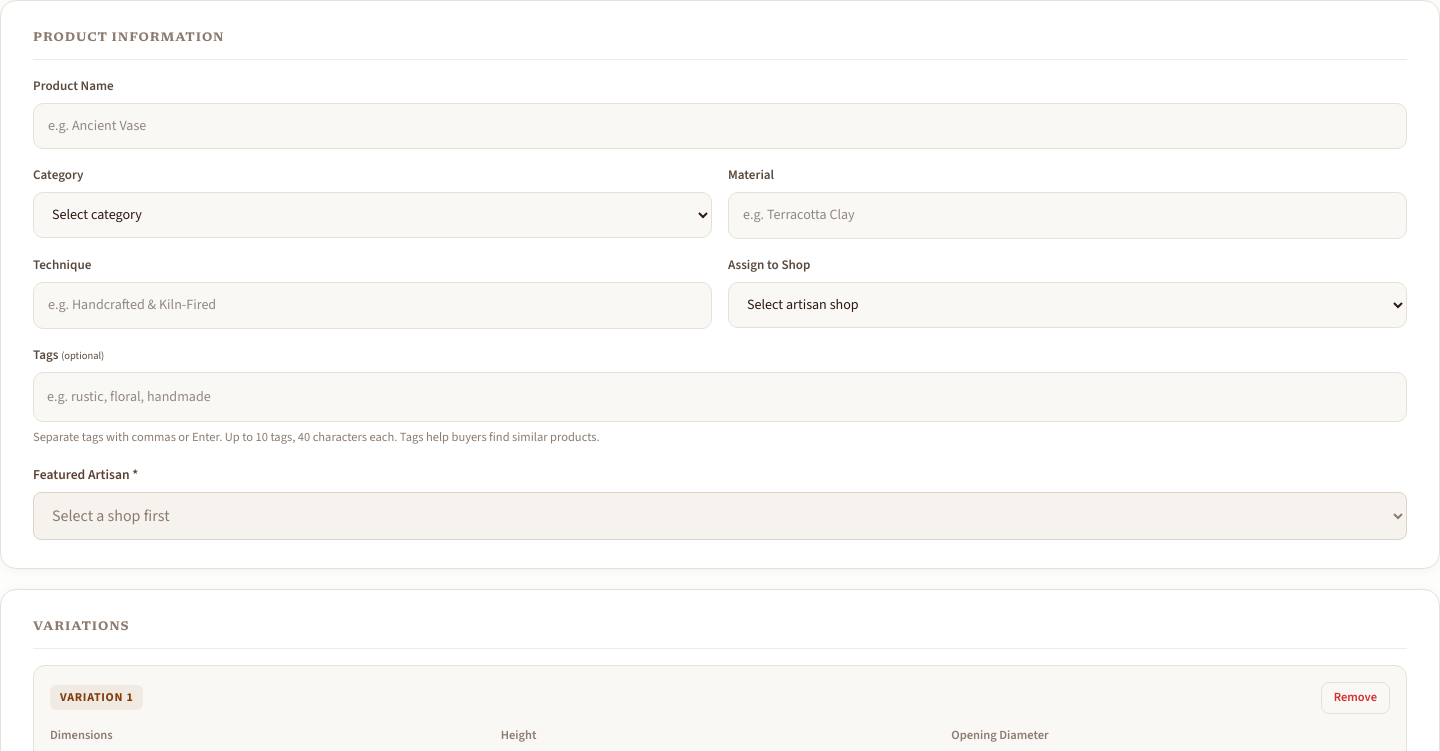
Scenario: admin product upload form › clears the artisan when switching shops and blocks upload without an artisan
Select "Clay Studio" in the dropdown named "shopId" at (1068, 305), box [728,282,1407,328]
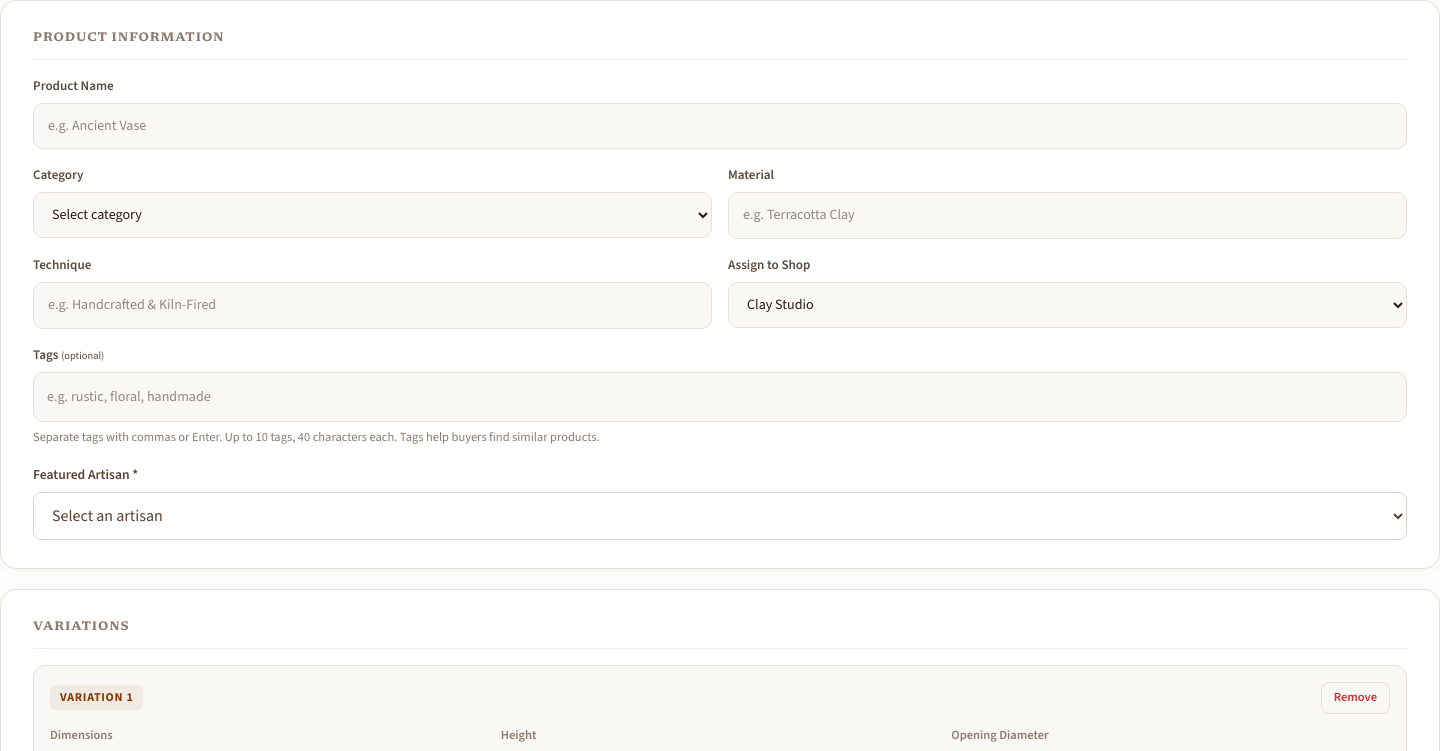
Select "Juan Dela Cruz" in the dropdown labelled "Featured Artisan *" at (720, 516), box [33,492,1407,540]
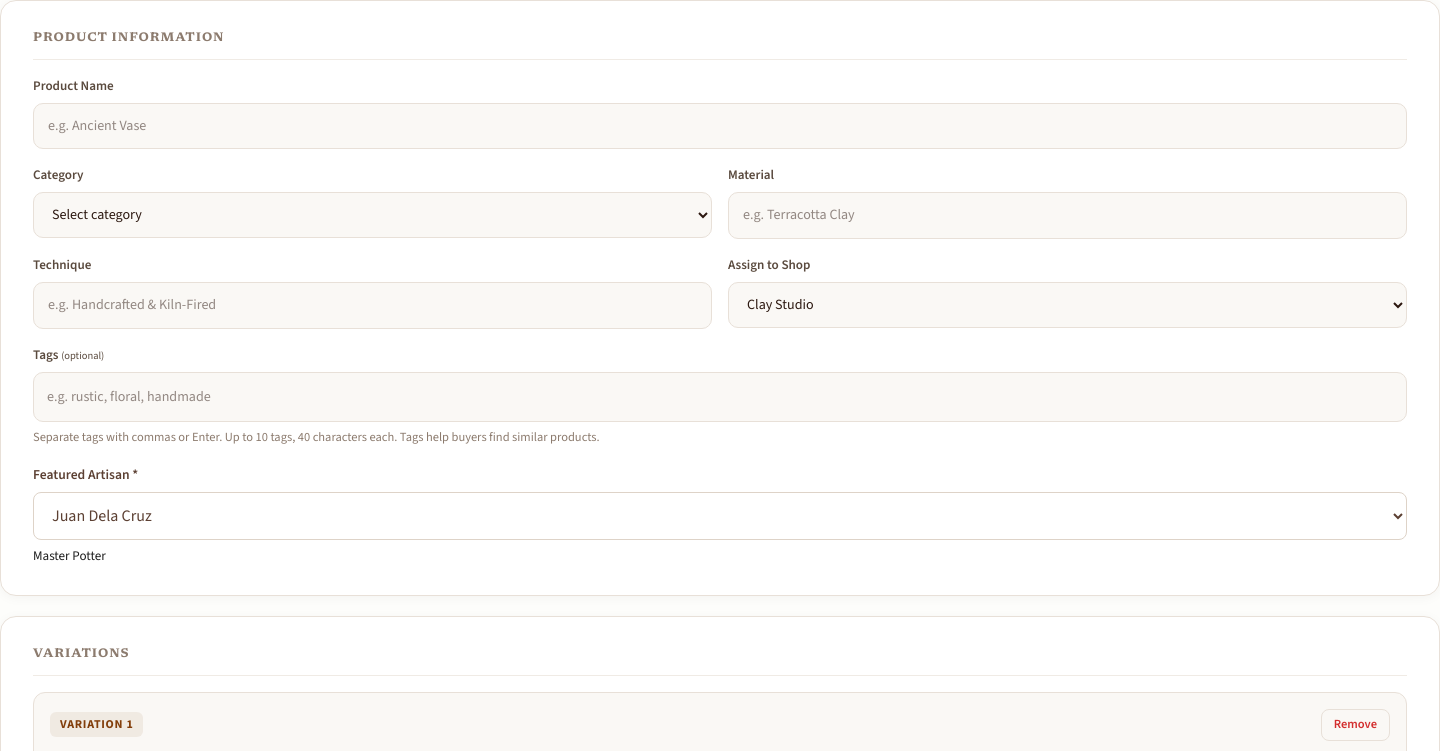
Select "Second Studio" in the dropdown named "shopId" at (1068, 305), box [728,282,1407,328]
(page scrolled)
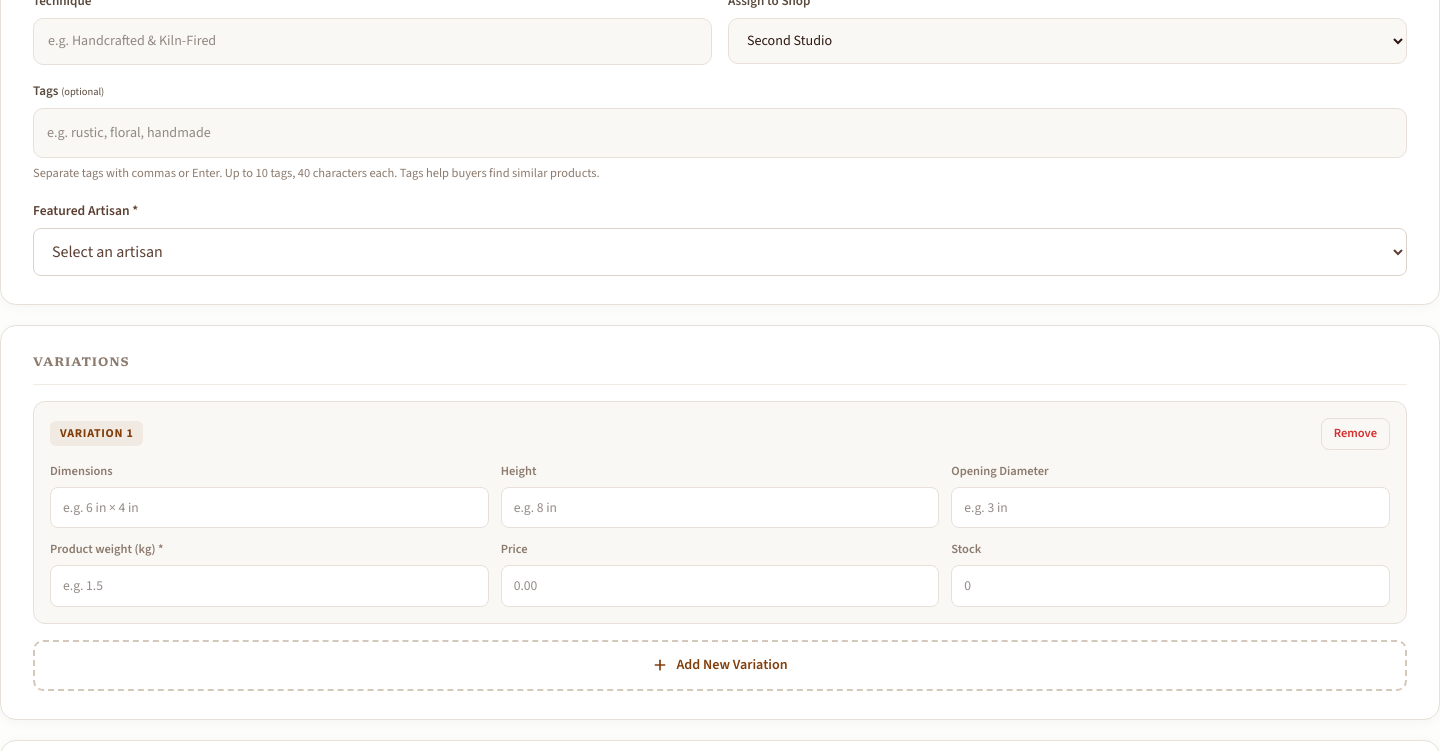
Expected: the option "Juan Dela Cruz" is not shown
Submit the form
(page scrolled)
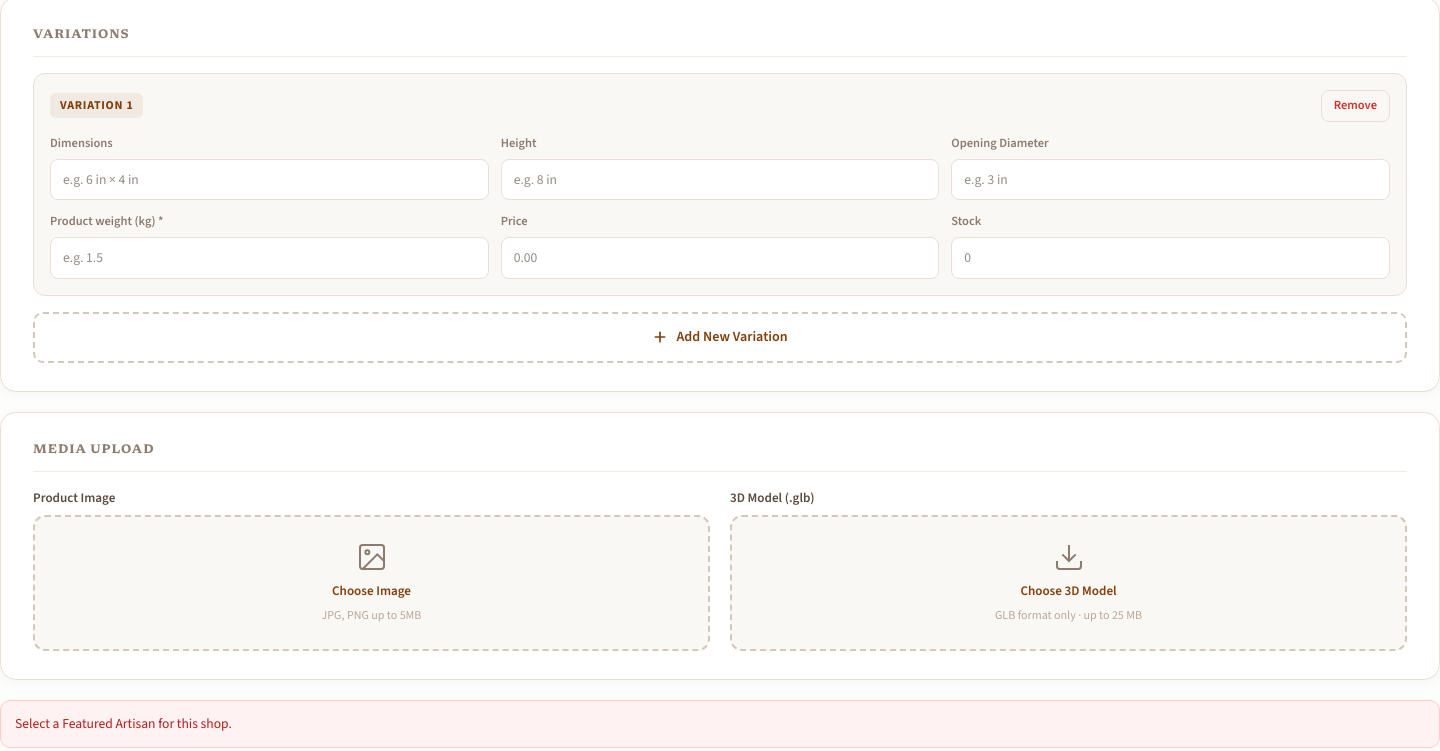
Result: the text "Select a Featured Artisan for this shop." is shown at [0,700,1439,748]
